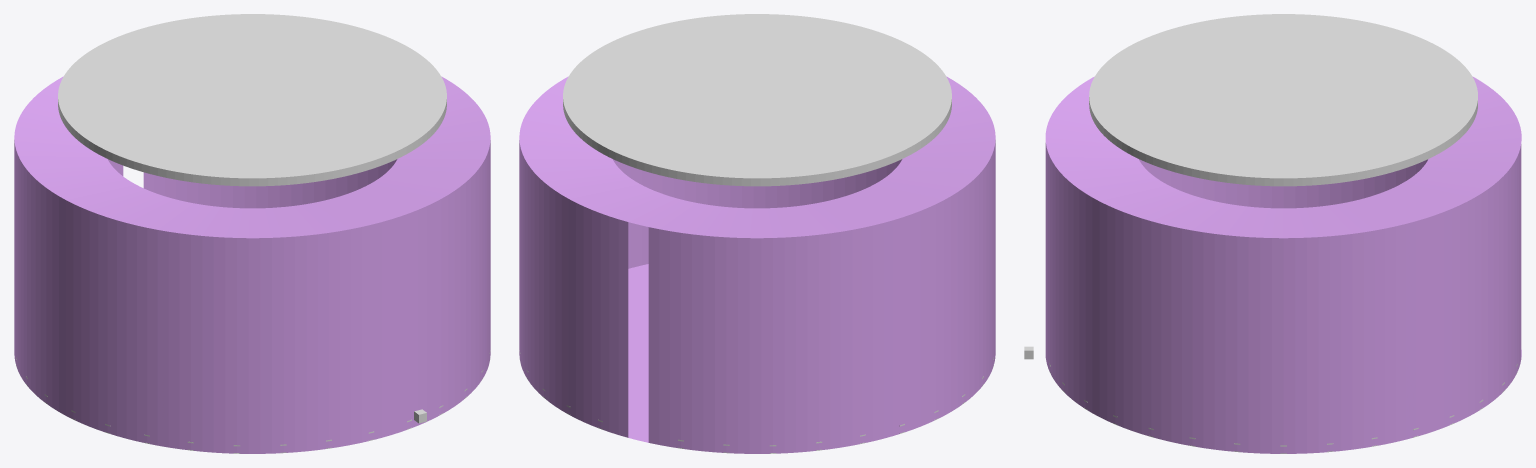
File: museum.gltf
3 renders of one model, left to right at view 1: azimuth 30°, elevation 25°; view 2: azimuth 150°, elevation 25°; view 3: azimuth 270°, elevation 25°, orthographic.
Visible parts, largest first — view 1: Cylinder, Circle.002; view 2: Cylinder, Circle.002; view 3: Cylinder, Circle.002.
Boxes of the visible parts, <box> form: Cylinder: <box>14,76,490,453</box>; Circle.002: <box>58,14,446,186</box>; Cylinder: <box>519,76,995,453</box>; Circle.002: <box>563,14,951,186</box>; Cylinder: <box>1045,76,1521,453</box>; Circle.002: <box>1089,14,1477,186</box>.
Bounding box in the file's own units: 100 × 59.59 × 104.
